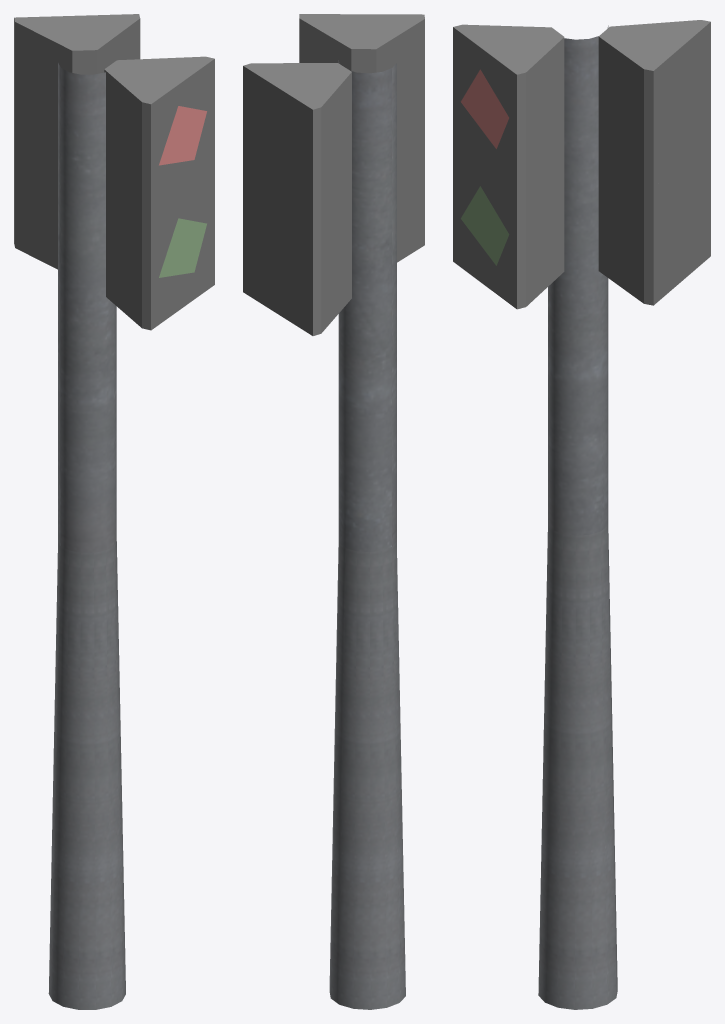
Rendered from TrafficLight_LOD2.gltf.
3 views of the same model, side by side, from view 1: azimuth 30°, elevation 25°; view 2: azimuth 150°, elevation 25°; view 3: azimuth 270°, elevation 25° (orthographic). The views are drawn at different scales.
Visible parts, largest first — view 1: node9, node12, node11, node10; view 2: node9, node12; view 3: node9, node12, node10, node11.
Boxes of the visible parts, left/top/right/bottom form: node9: left=48, top=63, right=125, bottom=1009; node12: left=14, top=14, right=214, bottom=330; node11: left=159, top=218, right=206, bottom=277; node10: left=159, top=106, right=206, bottom=165; node9: left=329, top=60, right=405, bottom=1009; node12: left=243, top=14, right=424, bottom=335; node9: left=538, top=25, right=617, bottom=1009; node12: left=453, top=20, right=710, bottom=309; node10: left=461, top=69, right=508, bottom=148; node11: left=461, top=186, right=509, bottom=265.
Size of the model in its own units: 0.1897 by 1.29 by 0.311.
